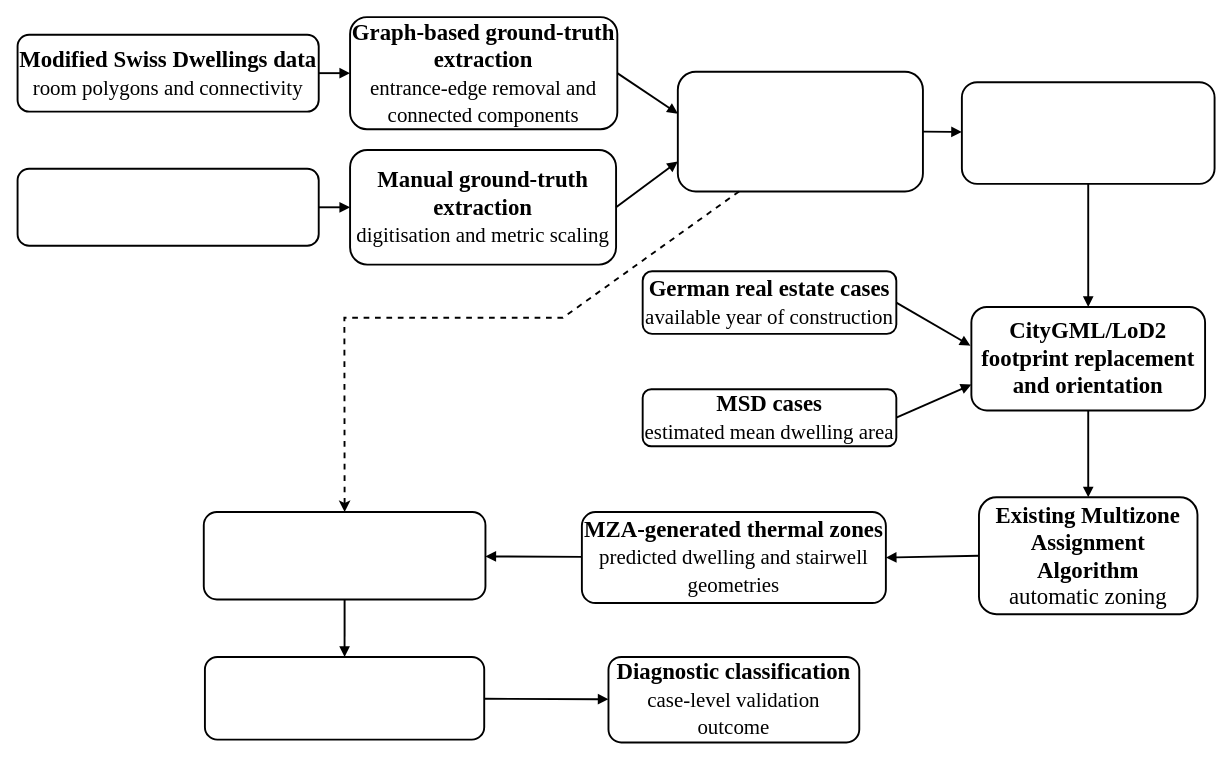
Image size: 1231x760. Some labels were removed from this diagram. The centre of each missing label's shape, as x and y in pixels:
Alignment and IoU-based matching reference and predicted zones: (344,555)
Common reference ground-truth dwelling and stairwell polygons, labels, adjacency: (799,131)
German real estate floor plans PDF/image documents: (167,206)
Metric calculation zone-level and building-level metrics: (344,698)
Simplified footprint generation internal boundaries dissolved: (1087,132)
